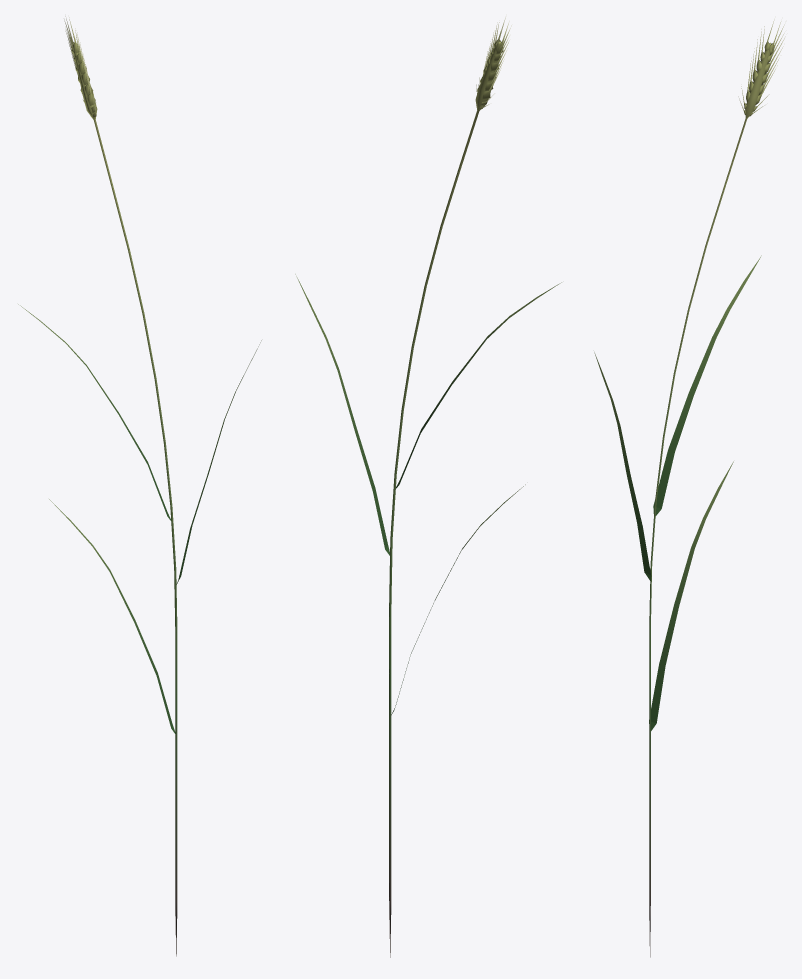
Rendered from trees-grasses-grass-stalk_v2.glb.
The picture shows the model from 3 angles, left to right: view 1: azimuth 30°, elevation 25°; view 2: azimuth 210°, elevation 25°; view 3: azimuth 270°, elevation 25°; orthographic projection. The views are drawn at different scales.
Visible parts, largest first — view 1: Grass Stalk_v2; view 2: Grass Stalk_v2; view 3: Grass Stalk_v2.
Part boxes in pixels (x1,y1,x2,y2): Grass Stalk_v2: [18, 16, 261, 956]; Grass Stalk_v2: [295, 17, 561, 957]; Grass Stalk_v2: [594, 19, 785, 957].
Bounding box in the file's own units: 0.1532 × 0.8 × 0.1519.
